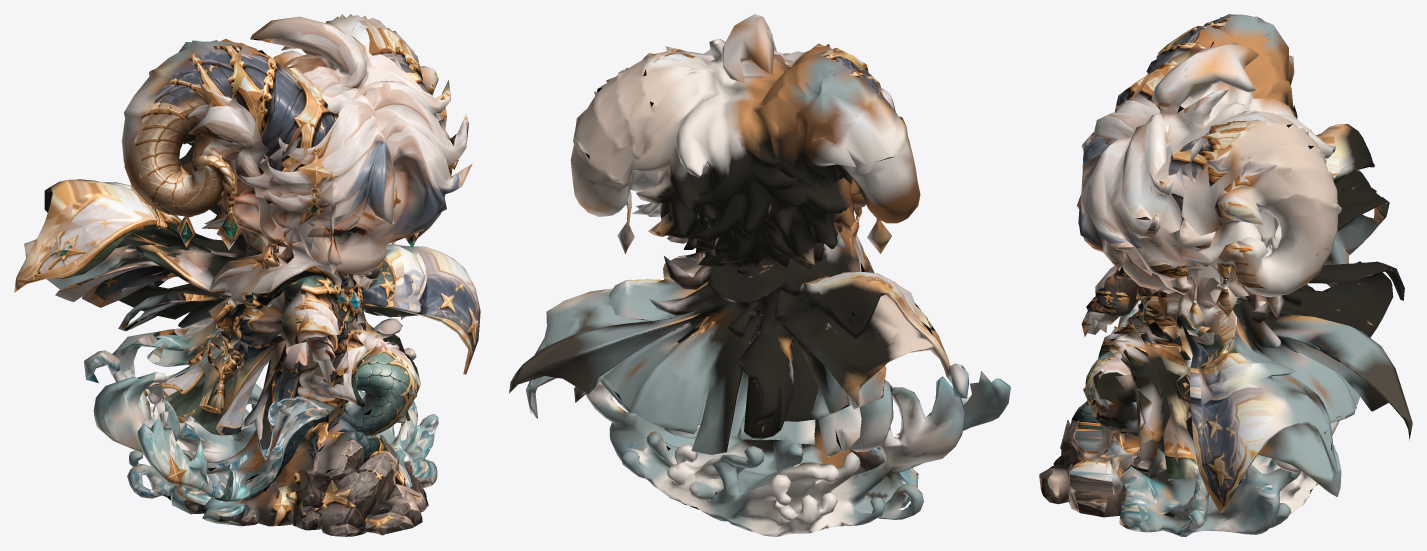
File: capricorn_painted.glb
The picture shows the model from 3 angles, left to right: view 1: azimuth 30°, elevation 25°; view 2: azimuth 150°, elevation 25°; view 3: azimuth 270°, elevation 25°; orthographic projection. The views are drawn at different scales.
Visible parts, largest first — view 1: Body; view 2: Body; view 3: Body.
Boxes of the visible parts, x1,y1,x2,y2 form: Body: (14, 14, 480, 536); Body: (509, 14, 1010, 536); Body: (1039, 14, 1412, 536).
Bounding box in the file's own units: 0.9949 × 0.9994 × 0.7664.
2 materials, 2 textured.
